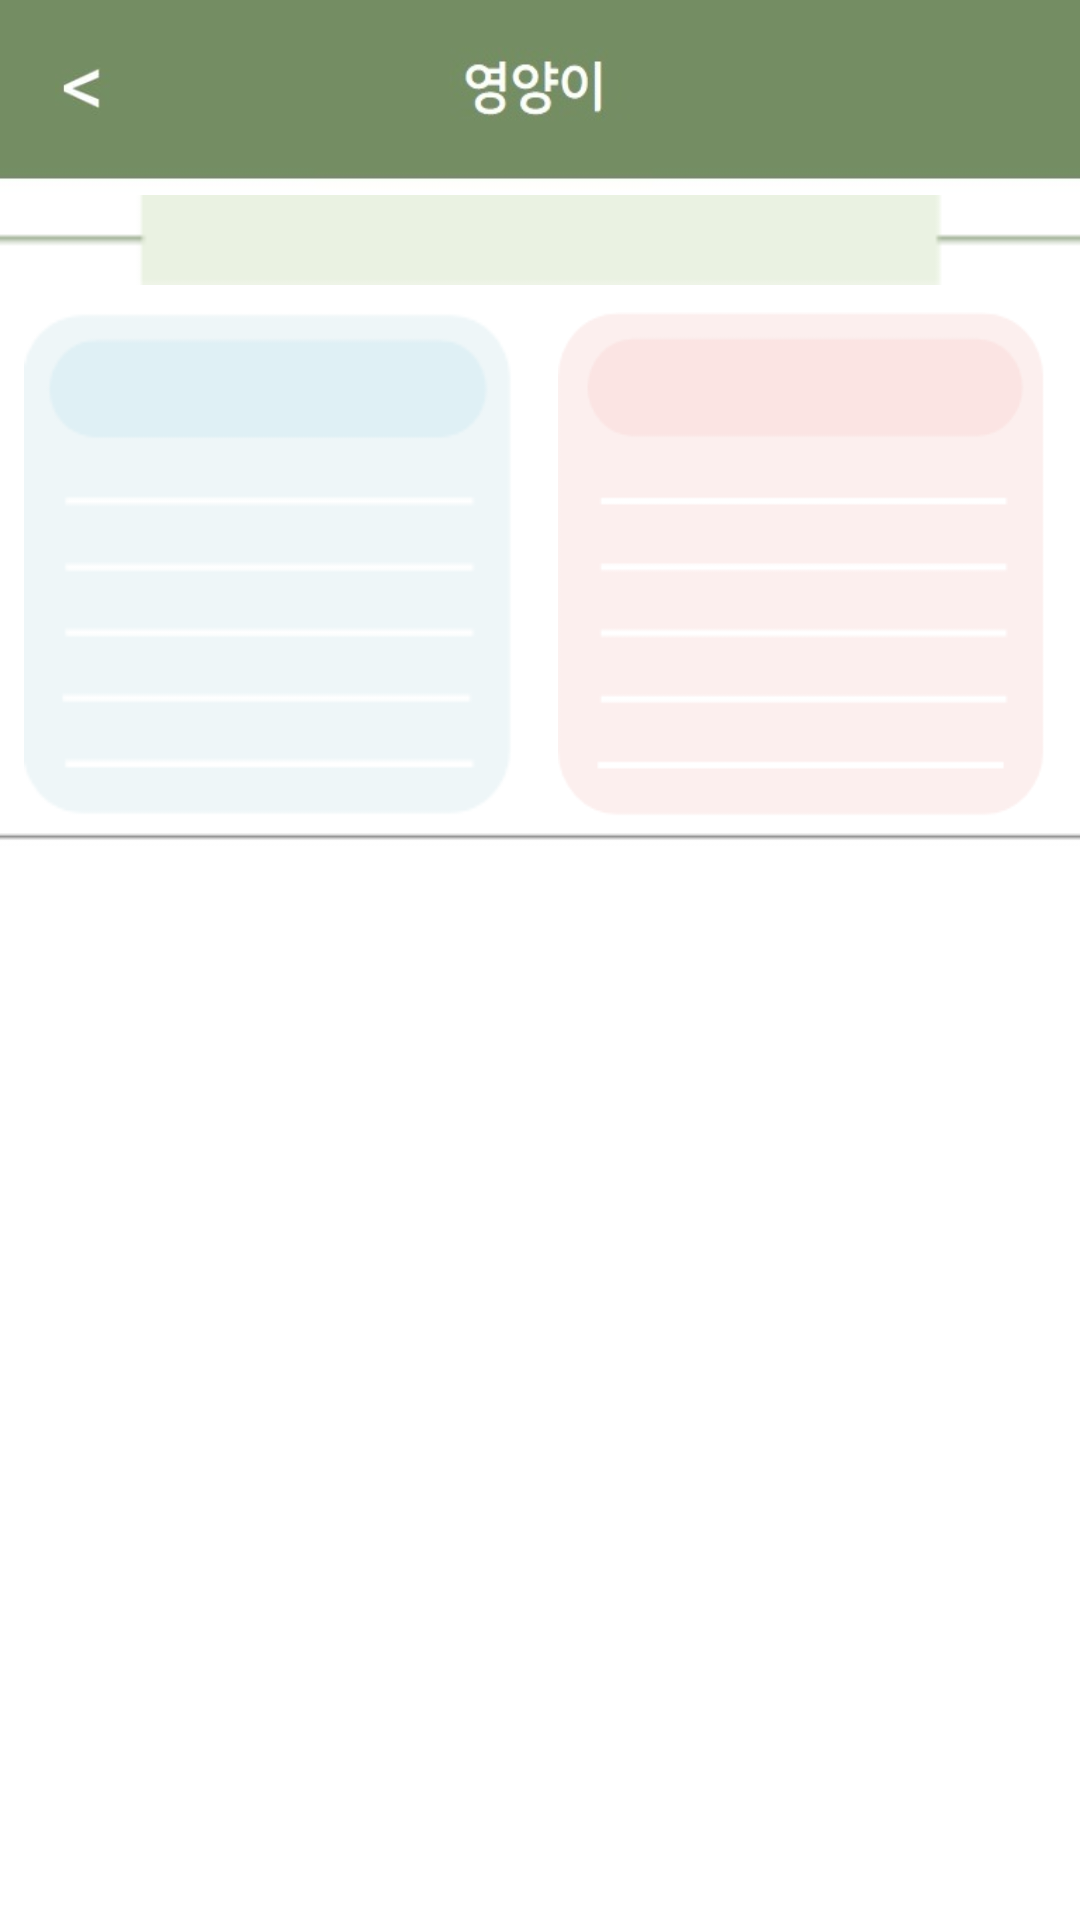

Screen size 1080px×1920px. Icon name, then its center in pixels as (x=x, y=y):
backimage: (x=81, y=88)
